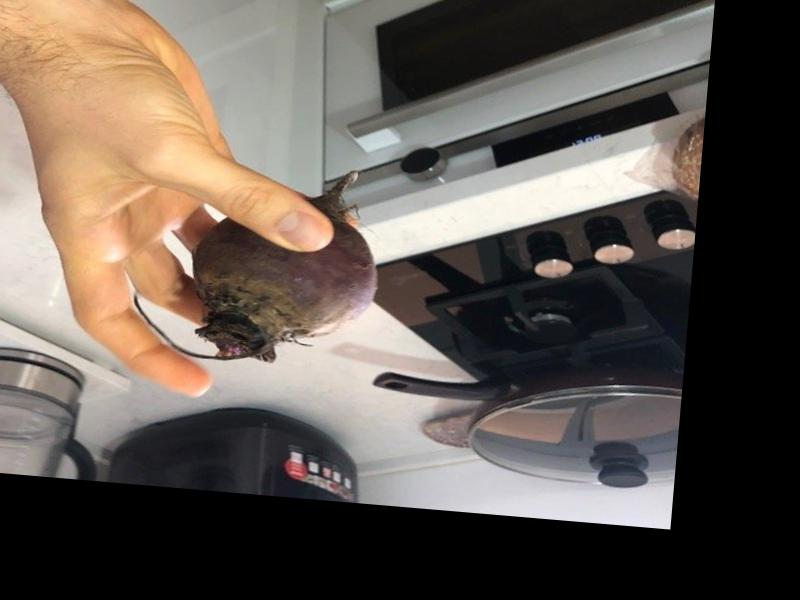Beet: (132, 153, 384, 371)
